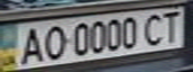0: (118, 14, 145, 50), (87, 18, 109, 54), (69, 20, 90, 56), (106, 16, 127, 52)
A: (15, 25, 48, 65)
C: (139, 10, 169, 46)
O: (36, 24, 69, 61)
T: (157, 8, 187, 43)
